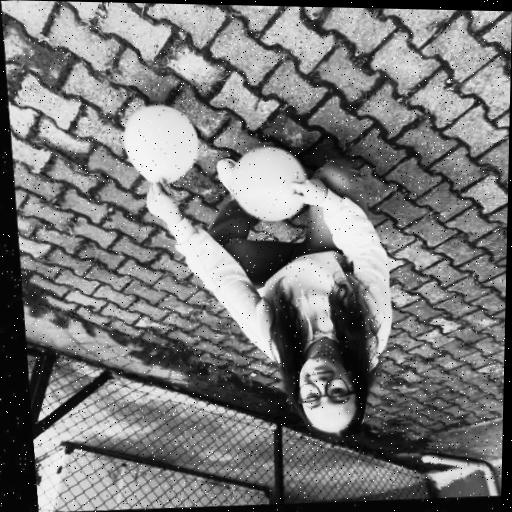balloon: (117, 104, 197, 189), (225, 145, 305, 225)
